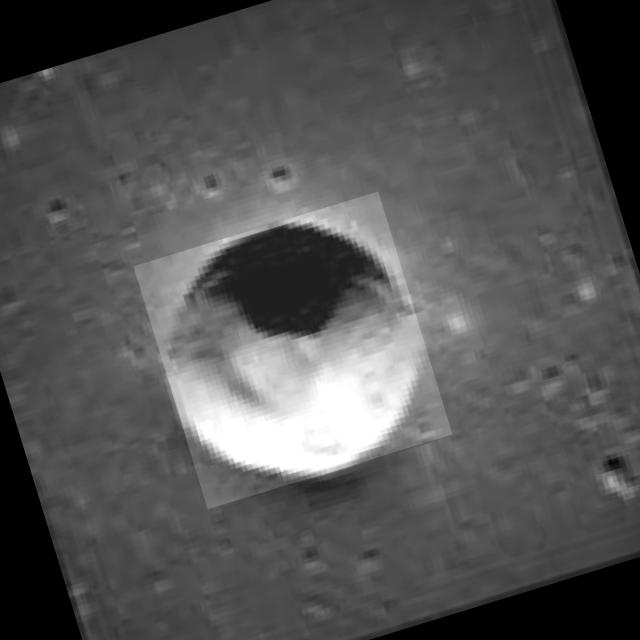crater: (134, 192, 453, 509)
